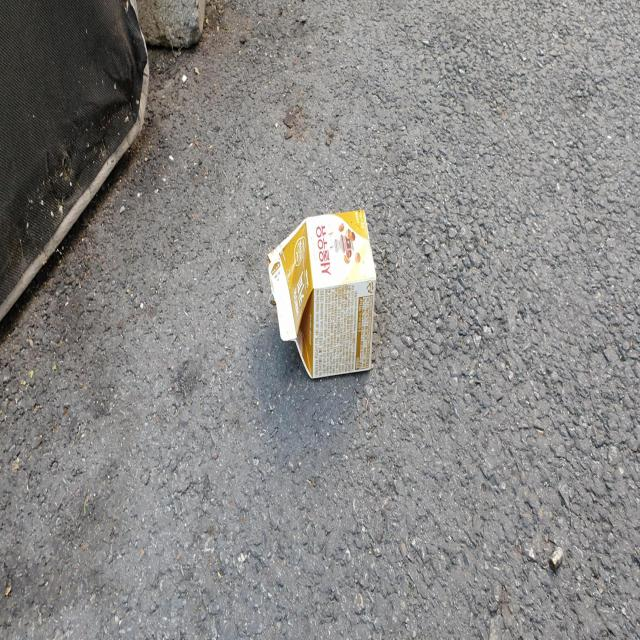paperpack: (267, 209, 376, 377)
